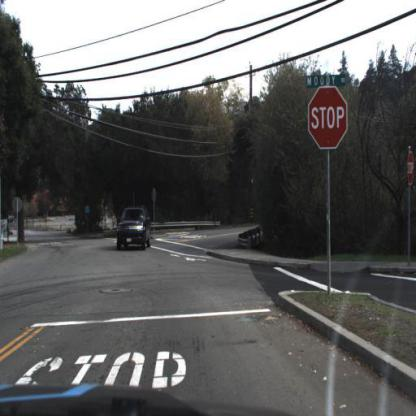car: (111, 204, 151, 252)
